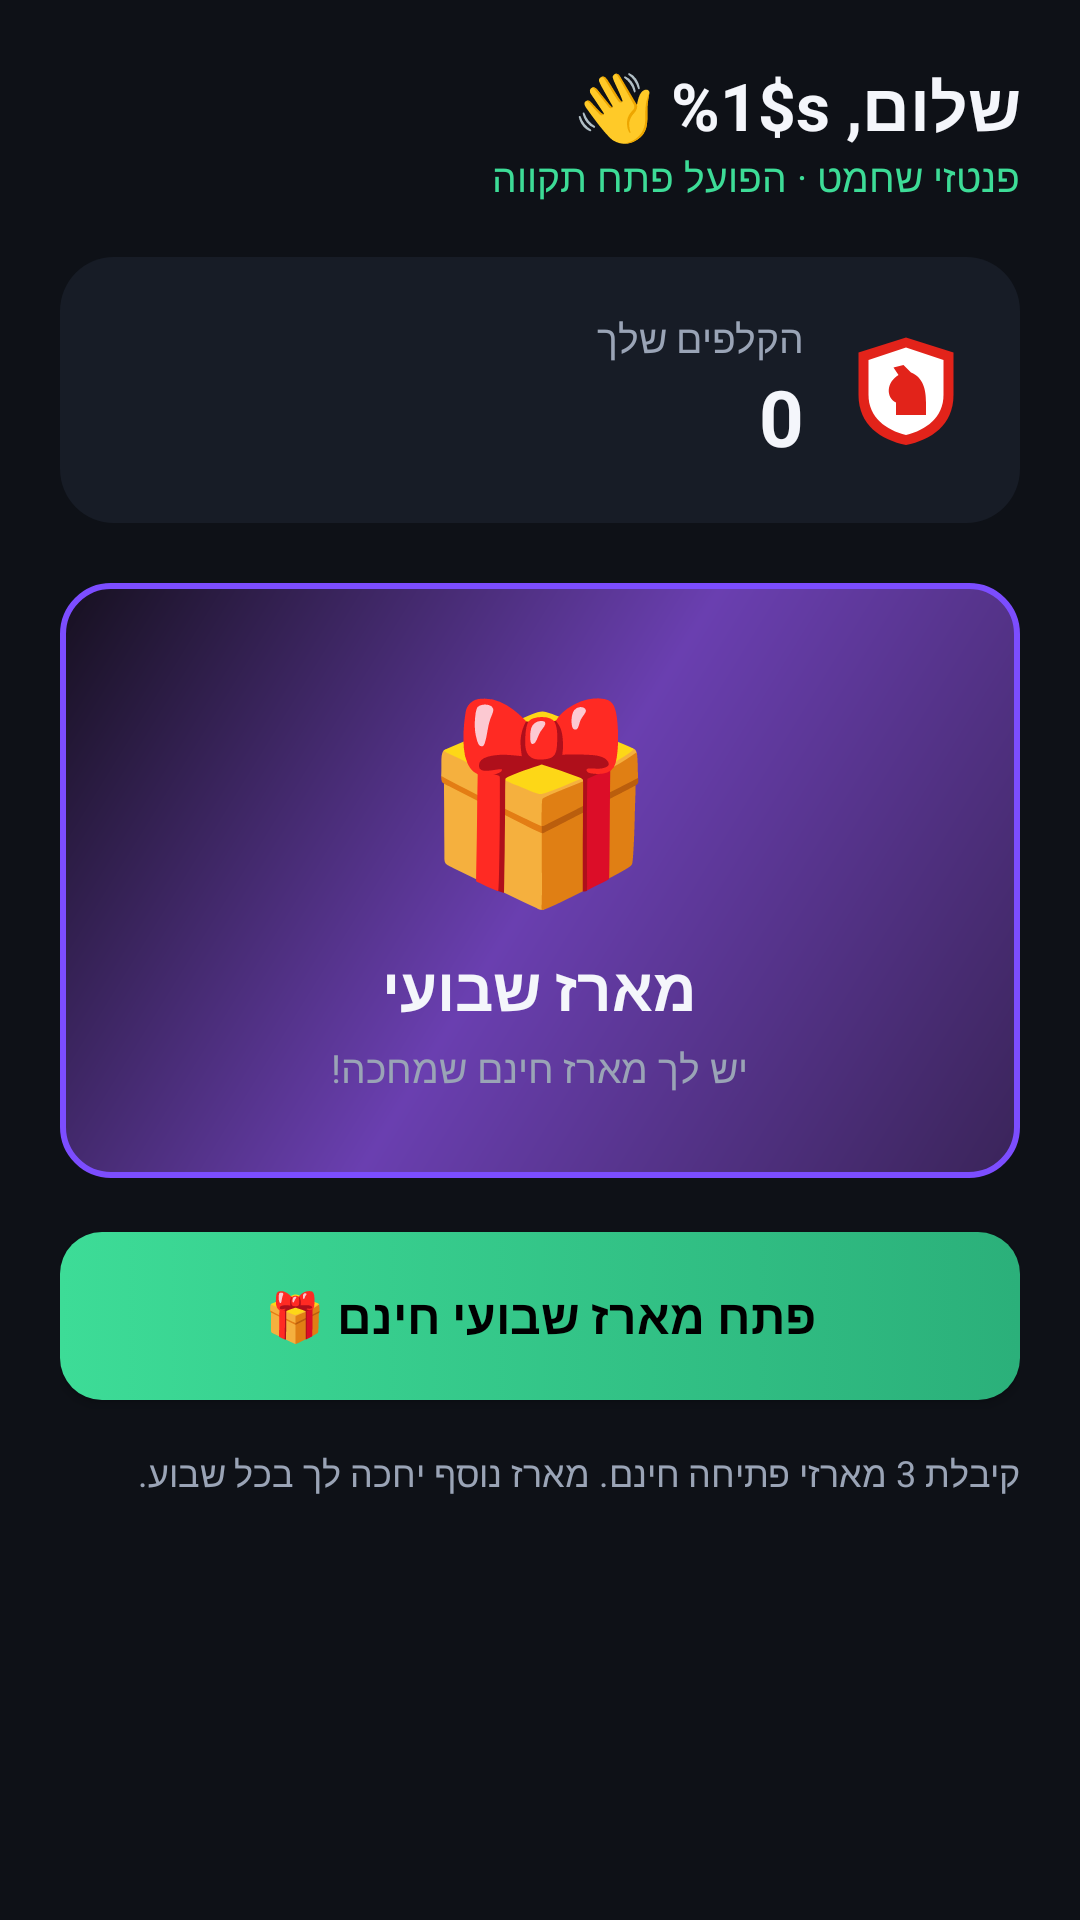

Icon bounding boxes for this 1080 x 1920 phone screenshot, format {"x1": x1, "y1": y1, "x2": x2, "y2": y2}:
crest hpt: {"x1": 858, "y1": 337, "x2": 954, "y2": 445}
